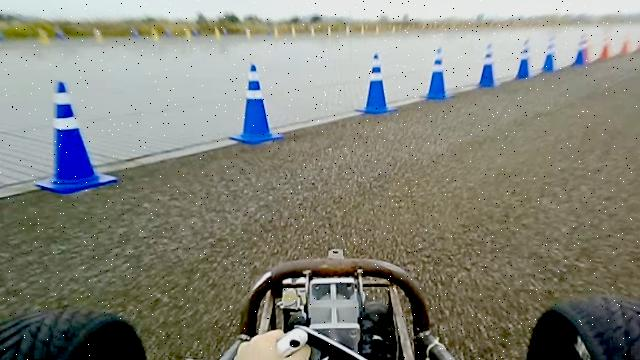blue cone: (34, 79, 117, 194), (229, 63, 284, 144), (355, 52, 397, 114), (422, 46, 454, 100), (478, 42, 498, 88), (515, 37, 532, 79)
